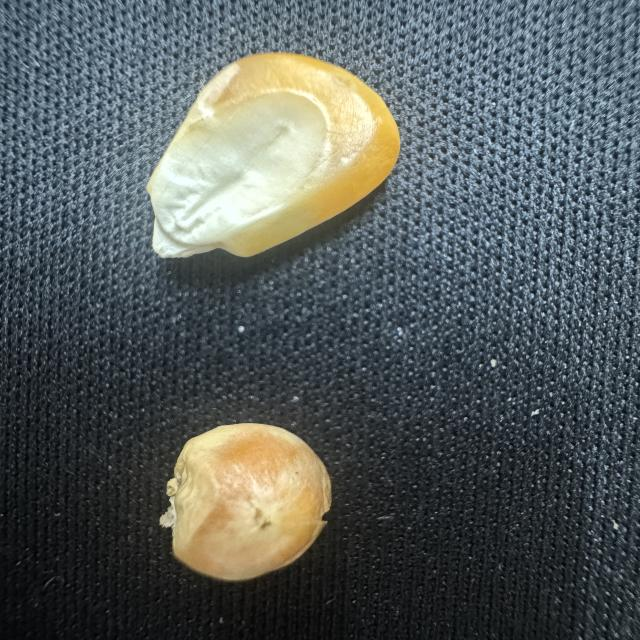Bad-Seed: (154, 421, 339, 583)
Good-Seed: (144, 49, 405, 270)
